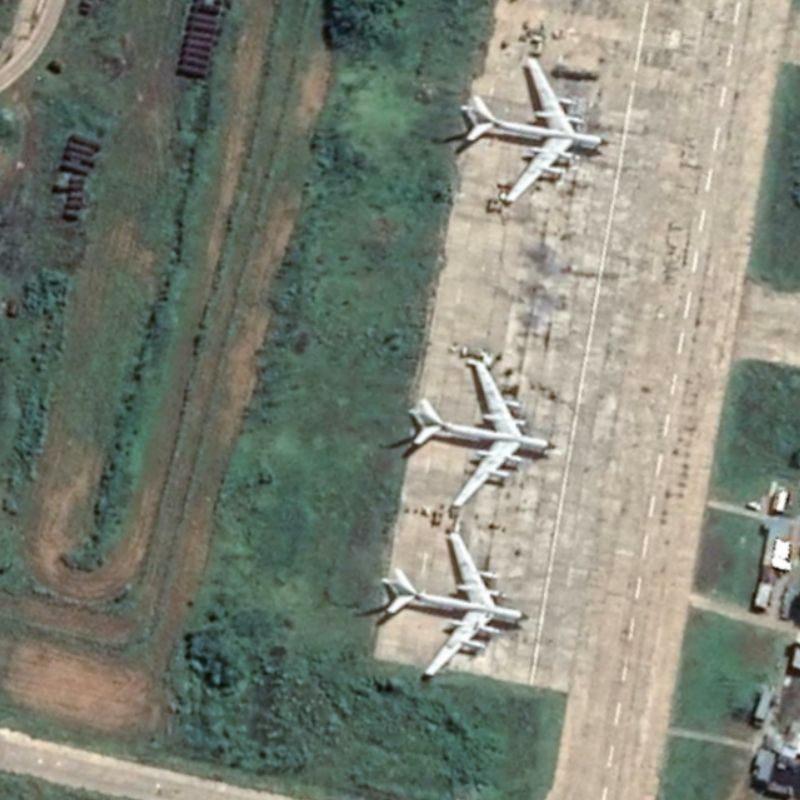A17: (377, 525, 535, 687), (401, 356, 563, 513), (456, 55, 615, 211)
